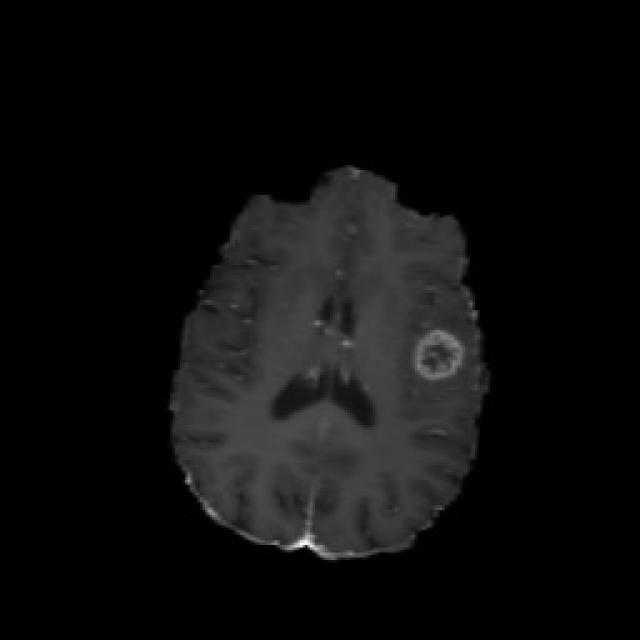negative: (411, 329, 464, 379)
